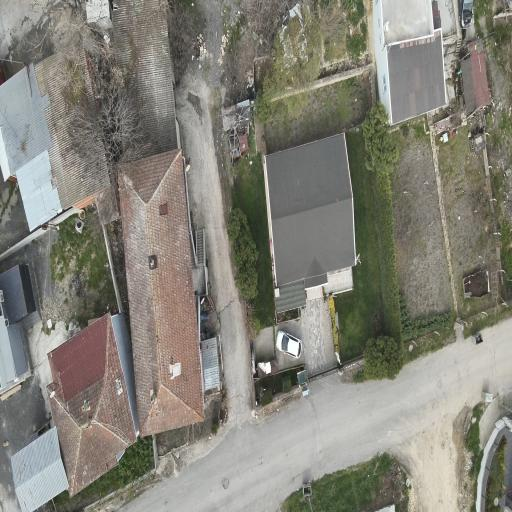car: (276, 331, 301, 358), (459, 0, 473, 28)
